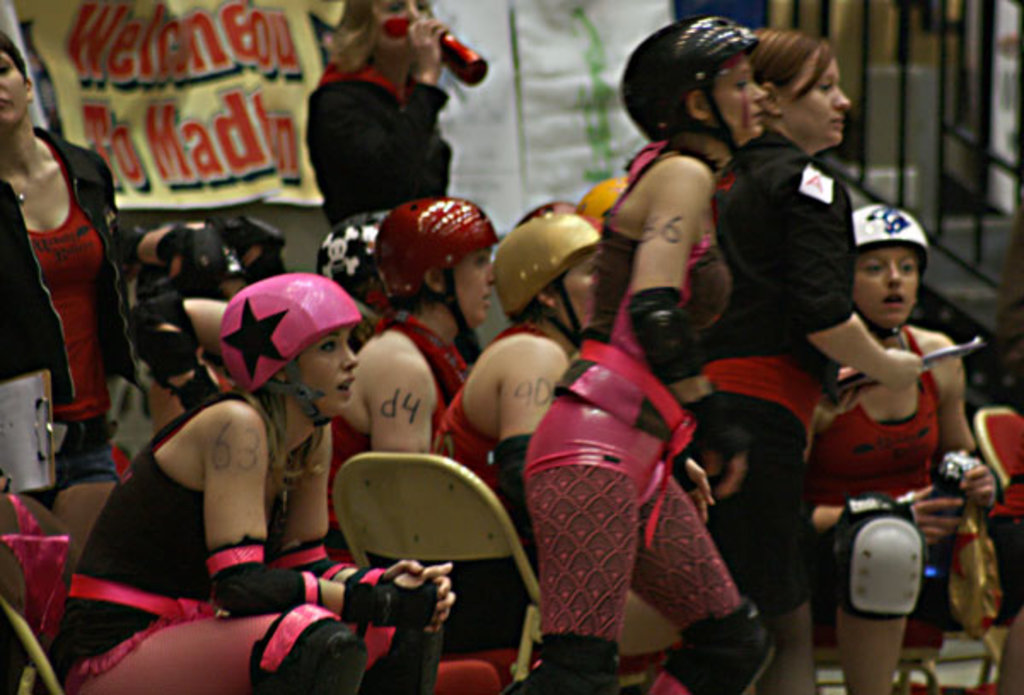Human-face: (857, 231, 945, 319), (778, 55, 852, 137), (712, 51, 766, 135), (302, 336, 365, 406), (447, 249, 498, 331), (372, 0, 430, 63), (561, 253, 594, 331), (0, 50, 27, 126)
